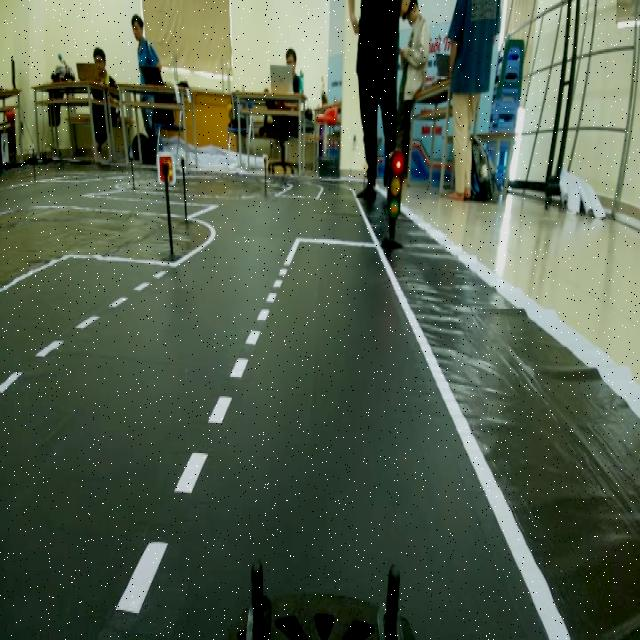trafficlight: (378, 138, 407, 258)
